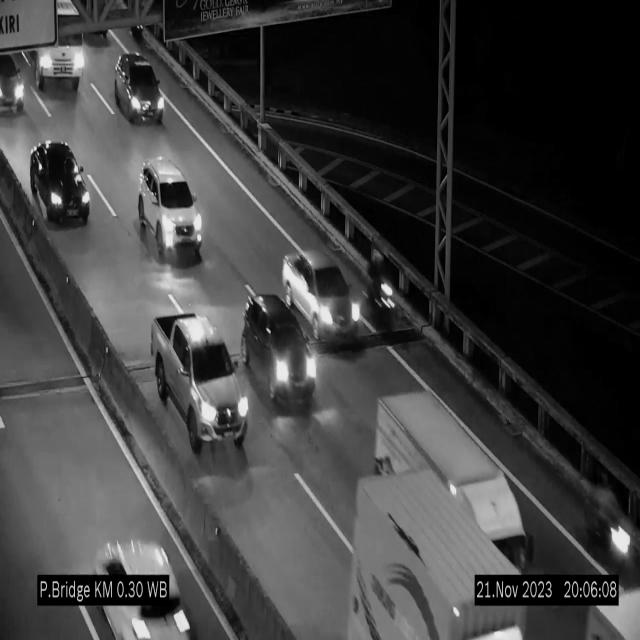Car: (150, 312, 248, 468), (91, 538, 208, 640), (242, 294, 316, 414), (282, 251, 361, 345), (137, 158, 203, 264), (27, 139, 94, 230), (115, 53, 164, 124), (0, 49, 32, 121)
Motorcycle: (583, 465, 639, 582), (369, 246, 396, 335)
Truck: (373, 383, 534, 580), (344, 481, 528, 640), (30, 0, 98, 101)
